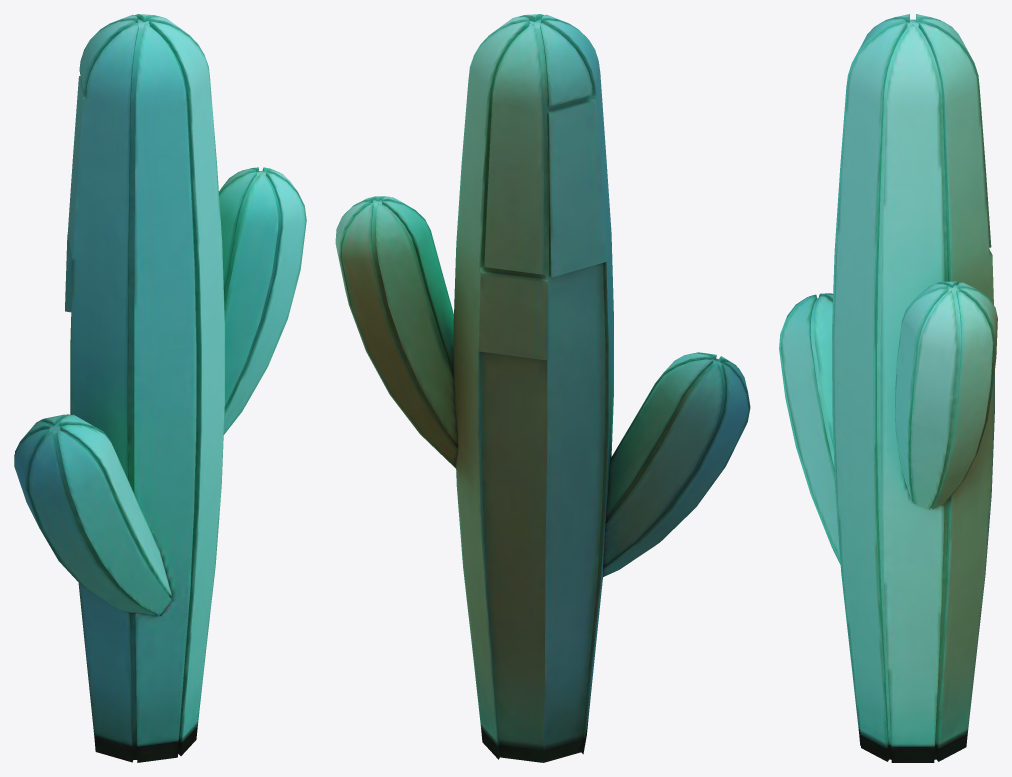
File: Cactus.glb
3 views of the same model, side by side, from view 1: azimuth 30°, elevation 25°; view 2: azimuth 150°, elevation 25°; view 3: azimuth 270°, elevation 25° (orthographic).
Visible parts, largest first — view 1: Cactus; view 2: Cactus; view 3: Cactus.
Part boxes in pixels (box(x1,y1,x2,y2)): Cactus: box(14, 14, 306, 762); Cactus: box(335, 14, 750, 762); Cactus: box(779, 14, 997, 762).
Bounding box in the file's own units: 0.1461 × 0.2946 × 0.081.
1 material, 1 textured.
